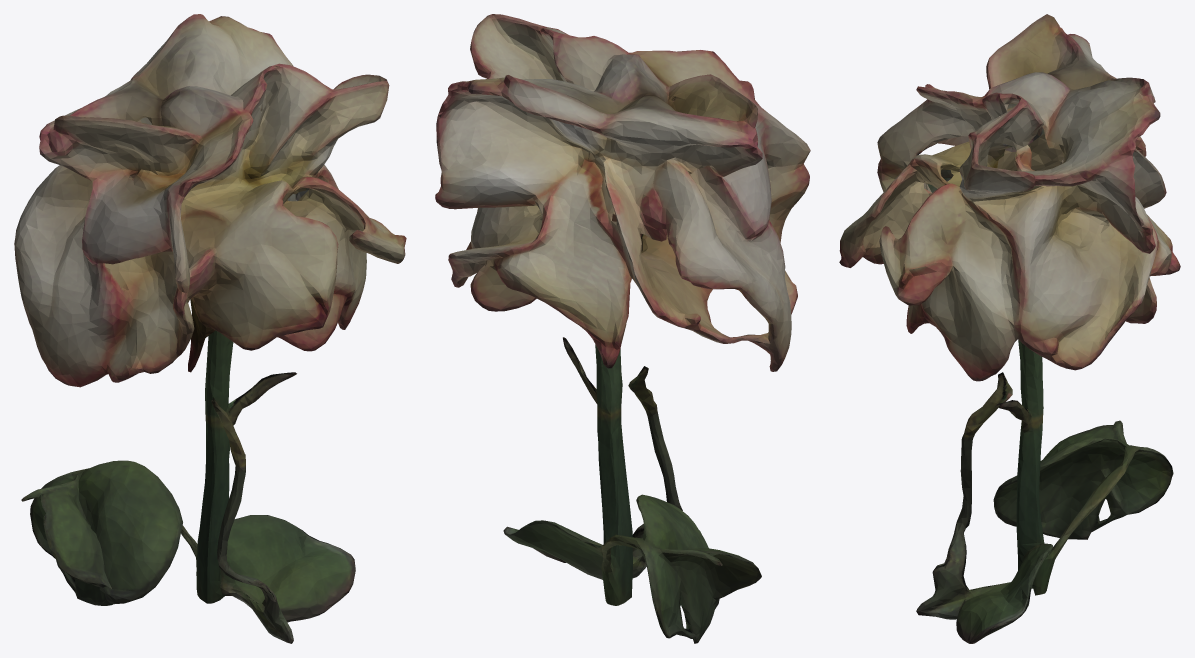
The picture shows the model from 3 angles, left to right: view 1: azimuth 30°, elevation 25°; view 2: azimuth 150°, elevation 25°; view 3: azimuth 270°, elevation 25°; orthographic projection. The views are drawn at different scales.
Parts seen in each view (by area): view 1: world; view 2: world; view 3: world.
Part boxes in pixels (<box>): world: <box>14,14,406,643</box>; world: <box>435,14,810,643</box>; world: <box>839,14,1180,643</box>.
Bounding box in the file's own units: 0.5903 × 0.9615 × 0.5463.
1 material, 1 textured.
